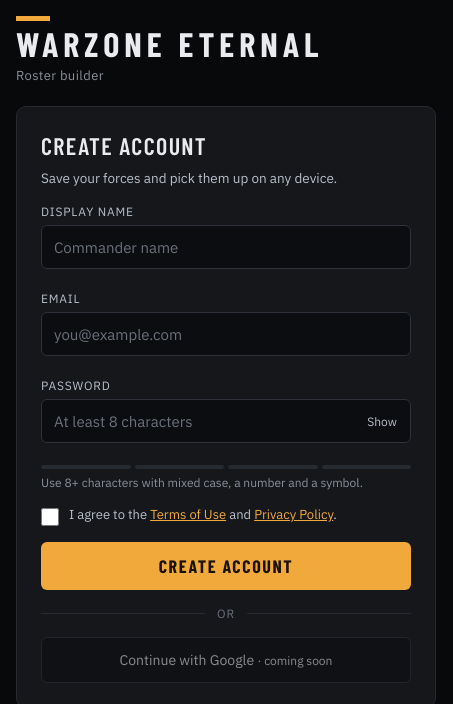
Test: sign up › rejects an email that already has an account
Type "Someone" into the field labelled "Display name" at (226,247), box [41,225,411,269]
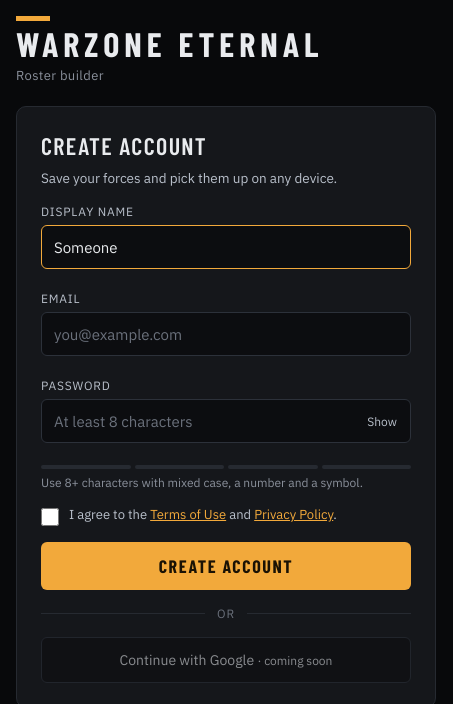
Type "demo@example.com" into the field labelled "Email" at (226,334), box [41,312,411,356]
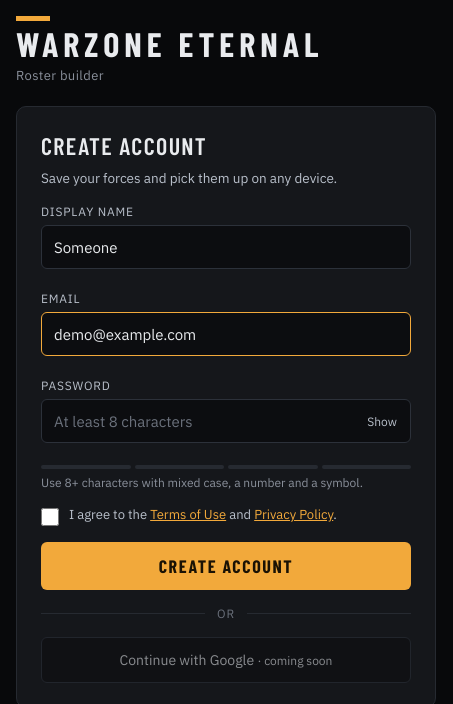
Type "Abcdef1!" into the password field labelled "Password" at (226,421), box [41,399,411,443]
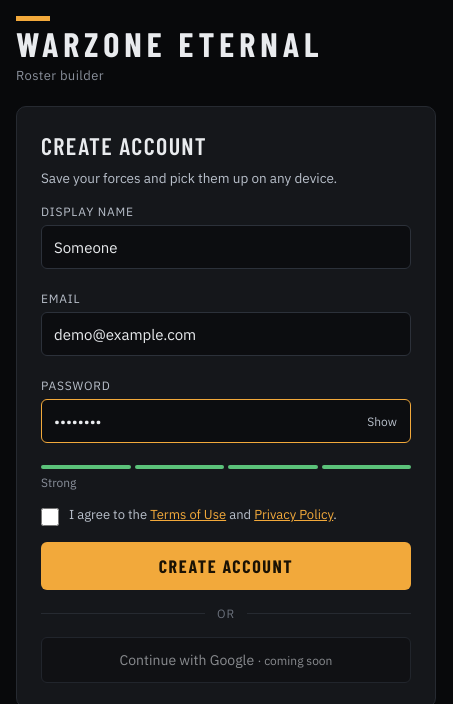
Click the checkbox at (50,517), box [41,508,59,526]
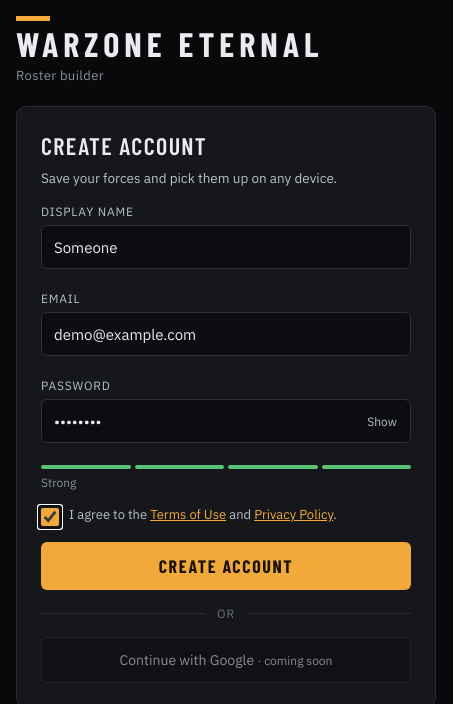
Click the button "Create account" at (226,566), box [41,542,411,590]
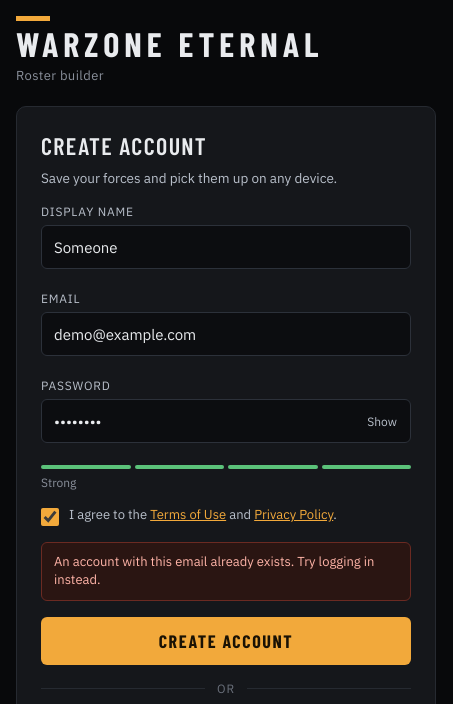
Expected: the text "An account with this email already exists. Try logging in instead." is shown, [41,542,411,601]
